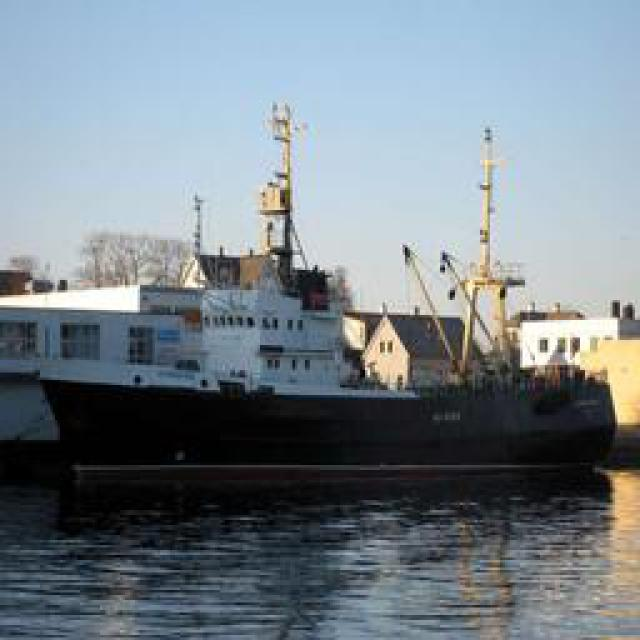Ship: (10, 104, 628, 454)
